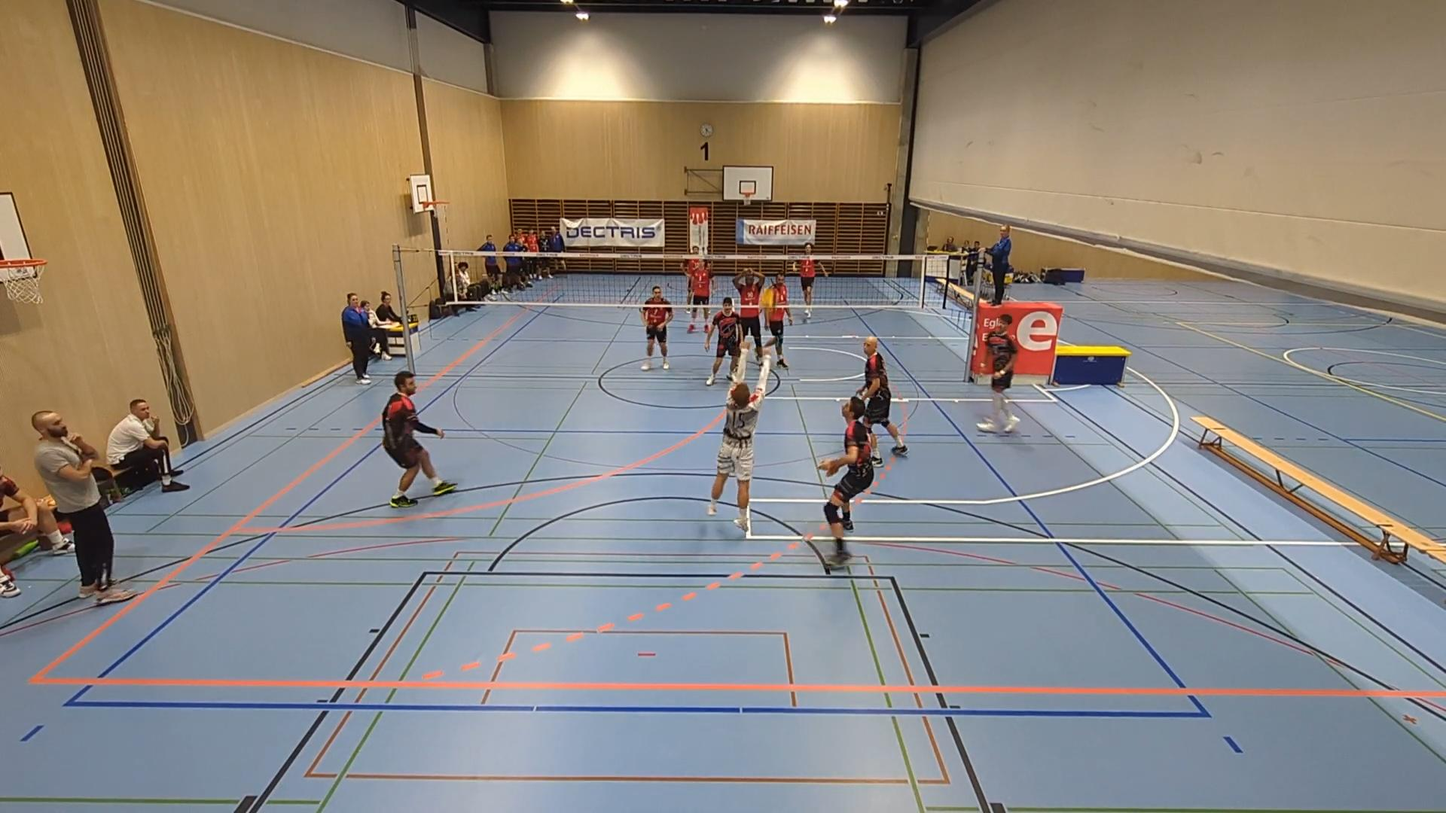ricezione: (703, 335, 774, 531)
